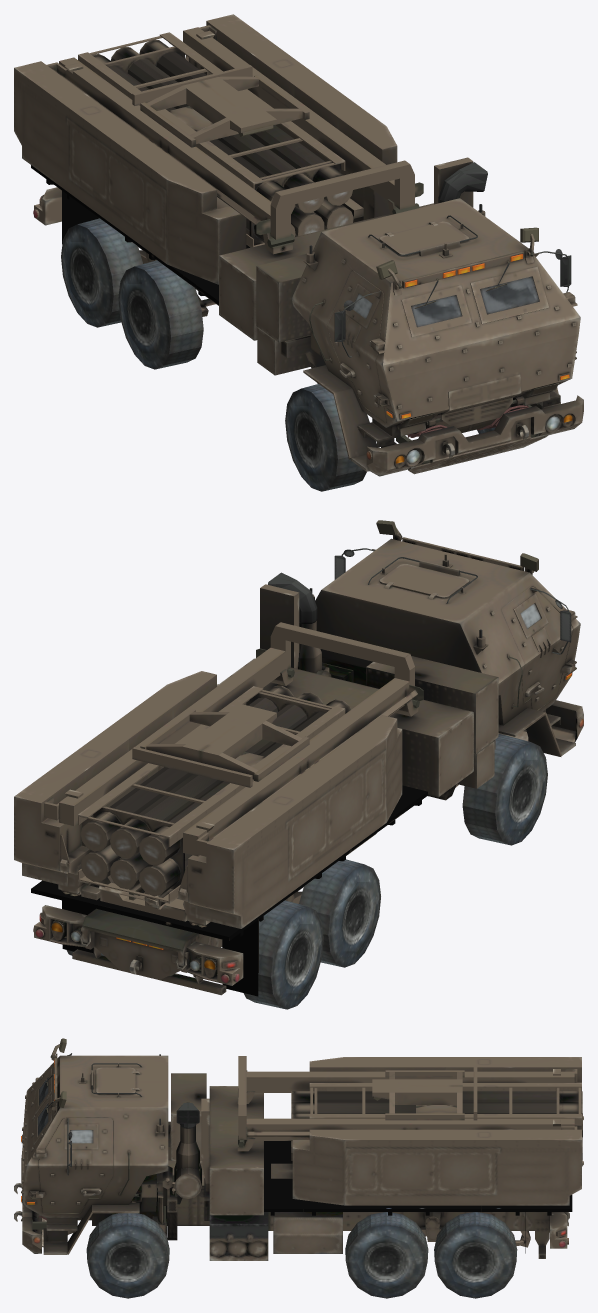
Rendered from Himars.obj.
3 renders of one model, top to bottom at view 1: azimuth 30°, elevation 25°; view 2: azimuth 150°, elevation 25°; view 3: azimuth 270°, elevation 25°, orthographic. The views are drawn at different scales.
Visible parts, largest first — view 1: Himars; view 2: Himars; view 3: Himars.
Part boxes in pixels (bbox=[...]): Himars: bbox=[14, 14, 583, 491]; Himars: bbox=[14, 520, 583, 1009]; Himars: bbox=[14, 1038, 583, 1298].
Bounding box in the file's own units: 2.6 × 2.61 × 7.01.
1 material, 1 textured.
